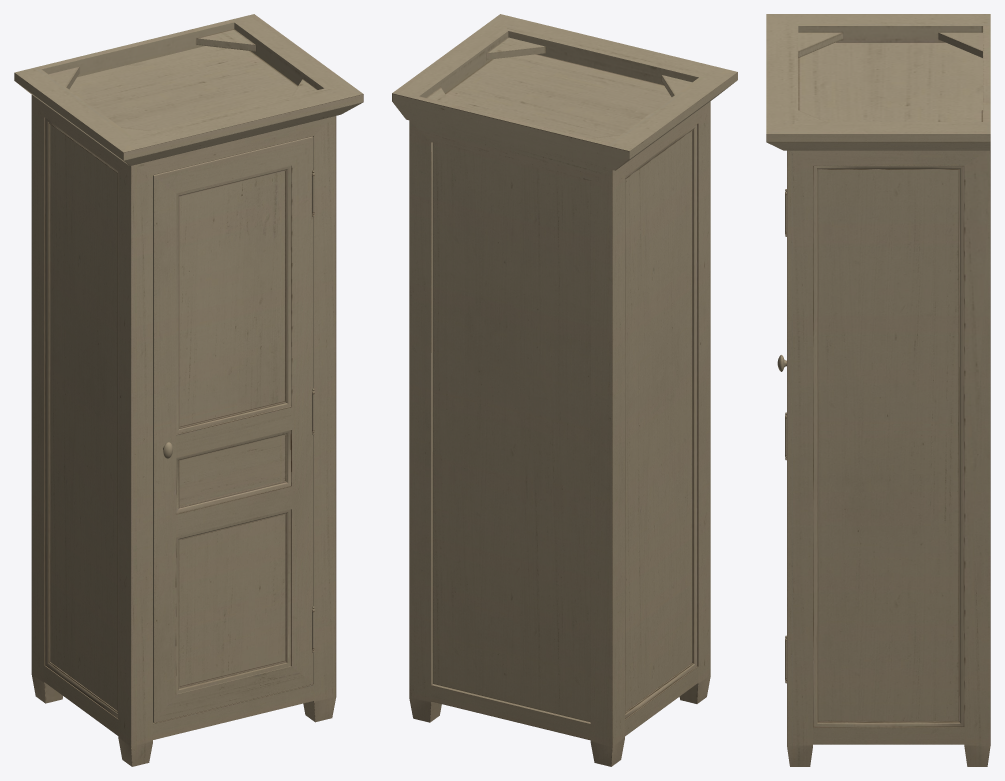
File: example58.glb
The picture shows the model from 3 angles, left to right: view 1: azimuth 30°, elevation 25°; view 2: azimuth 150°, elevation 25°; view 3: azimuth 270°, elevation 25°; orthographic projection. The views are drawn at different scales.
Visible parts, largest first — view 1: Buffer Layer; view 2: Buffer Layer; view 3: Buffer Layer.
Boxes of the visible parts, <box> form: Buffer Layer: <box>14,14,363,766</box>; Buffer Layer: <box>392,14,737,766</box>; Buffer Layer: <box>766,14,990,766</box>.
Bounding box in the file's own units: 0.84 × 2.1 × 0.6632.
1 material, 1 textured.
